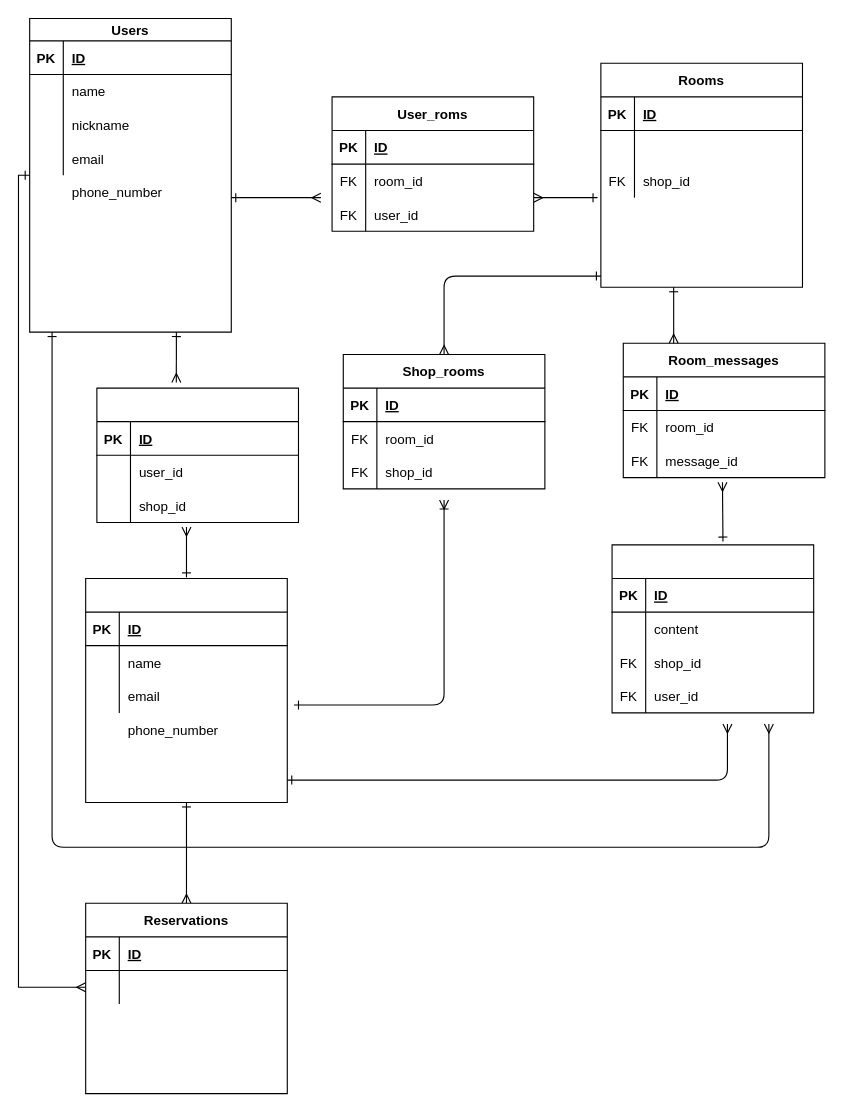
Some shapes in this 843 by 1112 pixel diagram are drawn without their labels. The box of each missing label's shape, as (x1, y1, x2, y2) in pixels:
Messages: (611, 544, 814, 713)
Shops: (85, 577, 287, 802)
User_shops: (96, 387, 298, 522)
